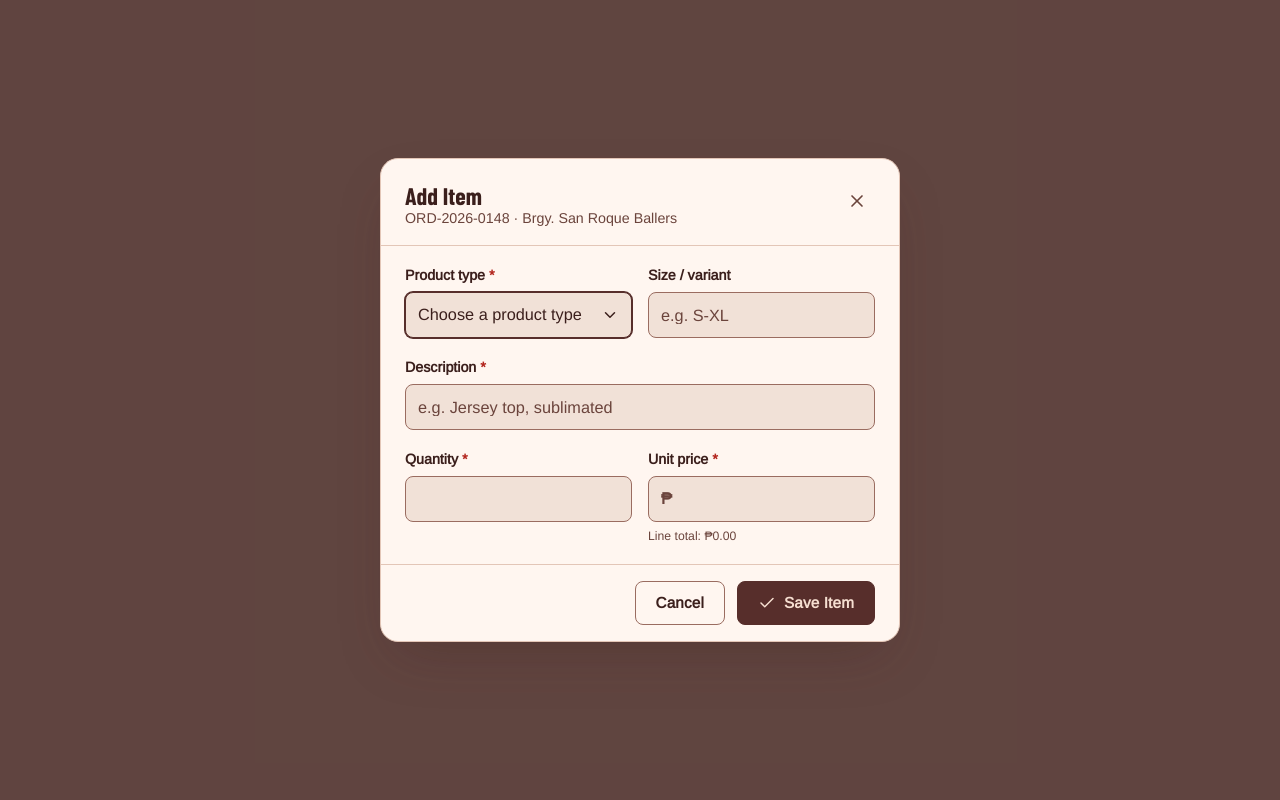
Test case: add mode checks before any request (OR-3) › shows the server wording under each empty required field and sends nothing
Click the button "Save Item" at (806, 603), box [737,581,875,625]
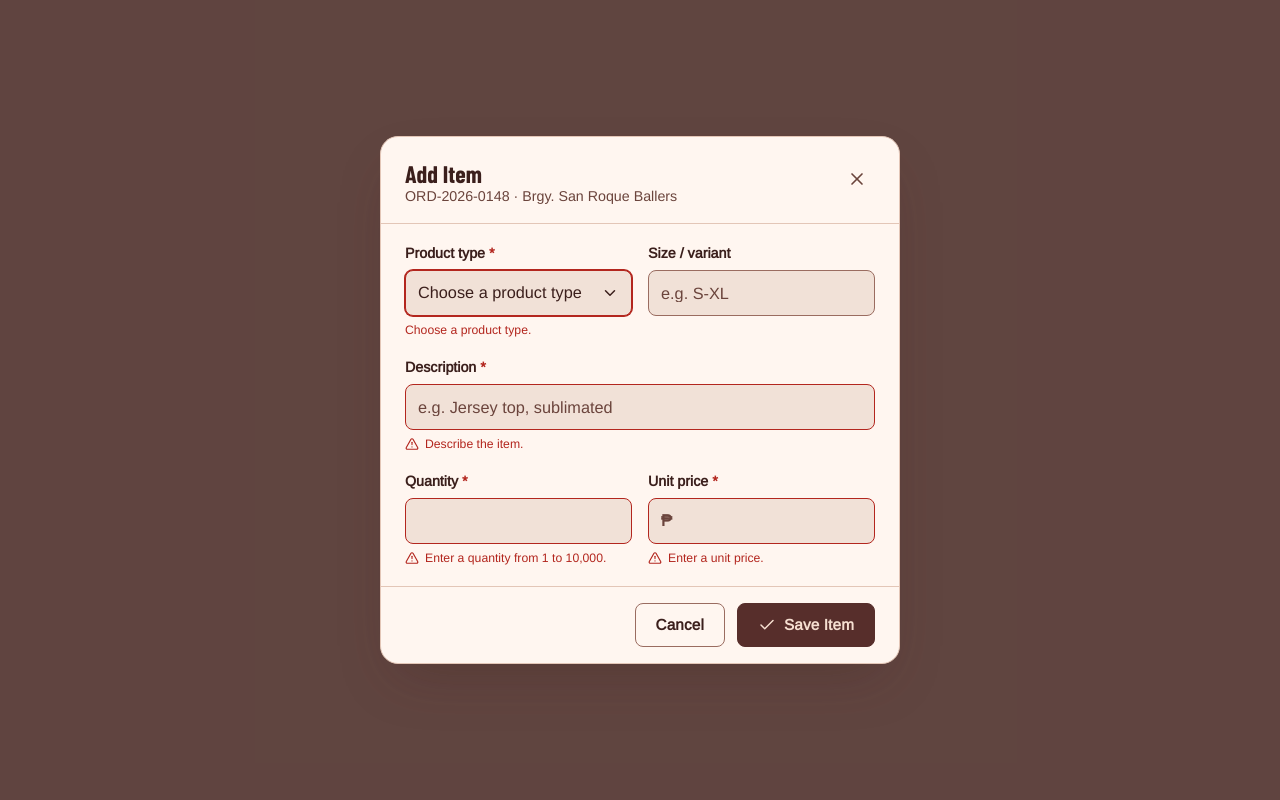
Check: the text "Choose a product type." is shown, box [405,323,531,337]
Check: the text "Describe the item." is shown, box [405,437,524,451]
Check: the text "Enter a quantity from 1 to 10,000." is shown, box [405,550,632,566]
